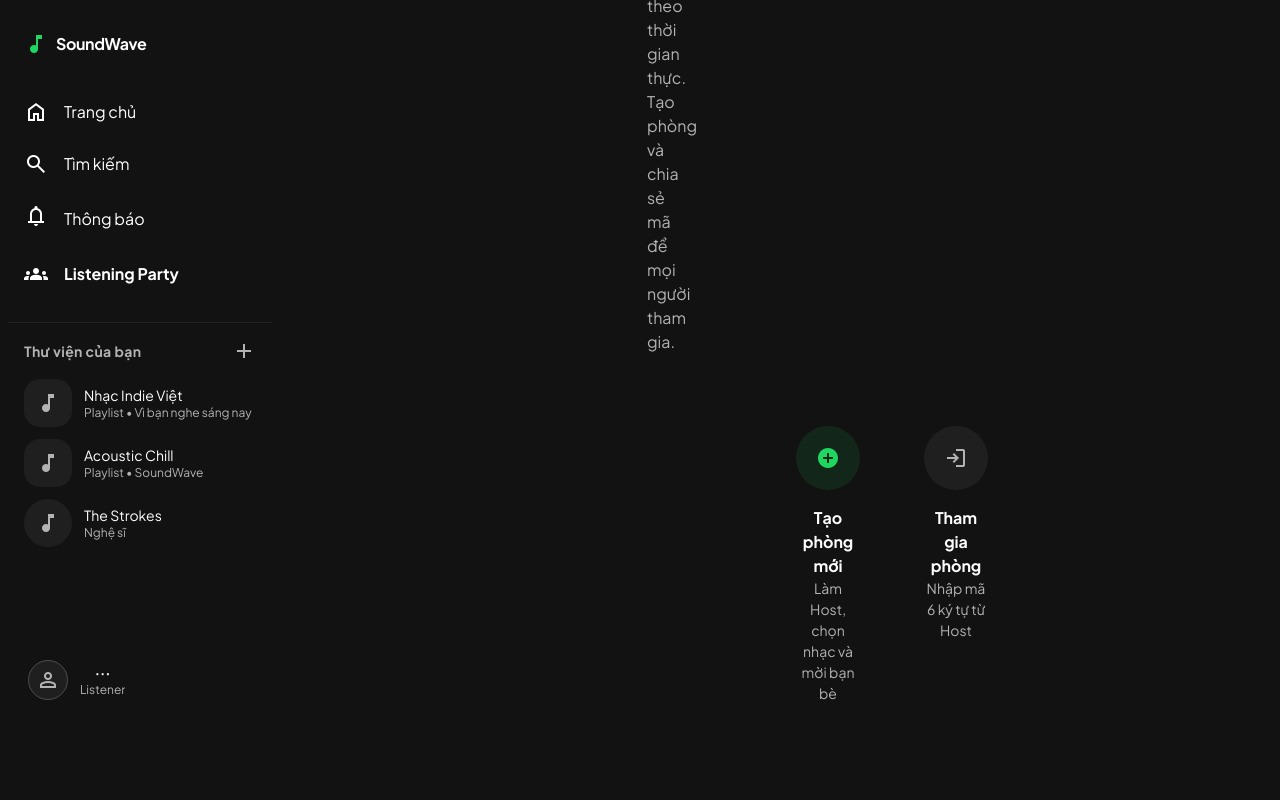
PartyLandingPage › closes CreateRoomModal when close button clicked
This screenshot has width=1280, height=800.
(page scrolled)
Click the button "Tạo phòng mới Làm Host, chọn nhạc và mời bạn bè".
click(828, 565)  # box [772, 402, 884, 728]
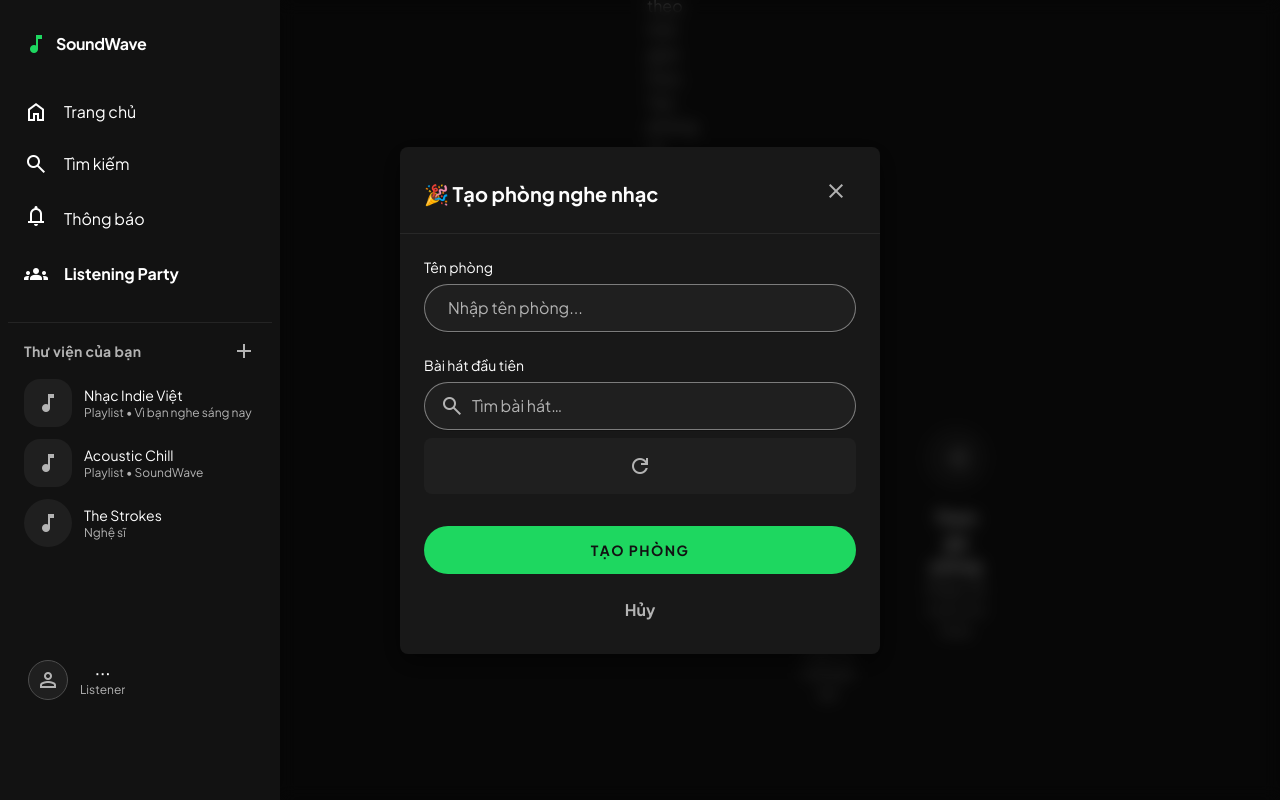
Click the button named "Đóng".
click(836, 194)  # box [816, 170, 856, 216]
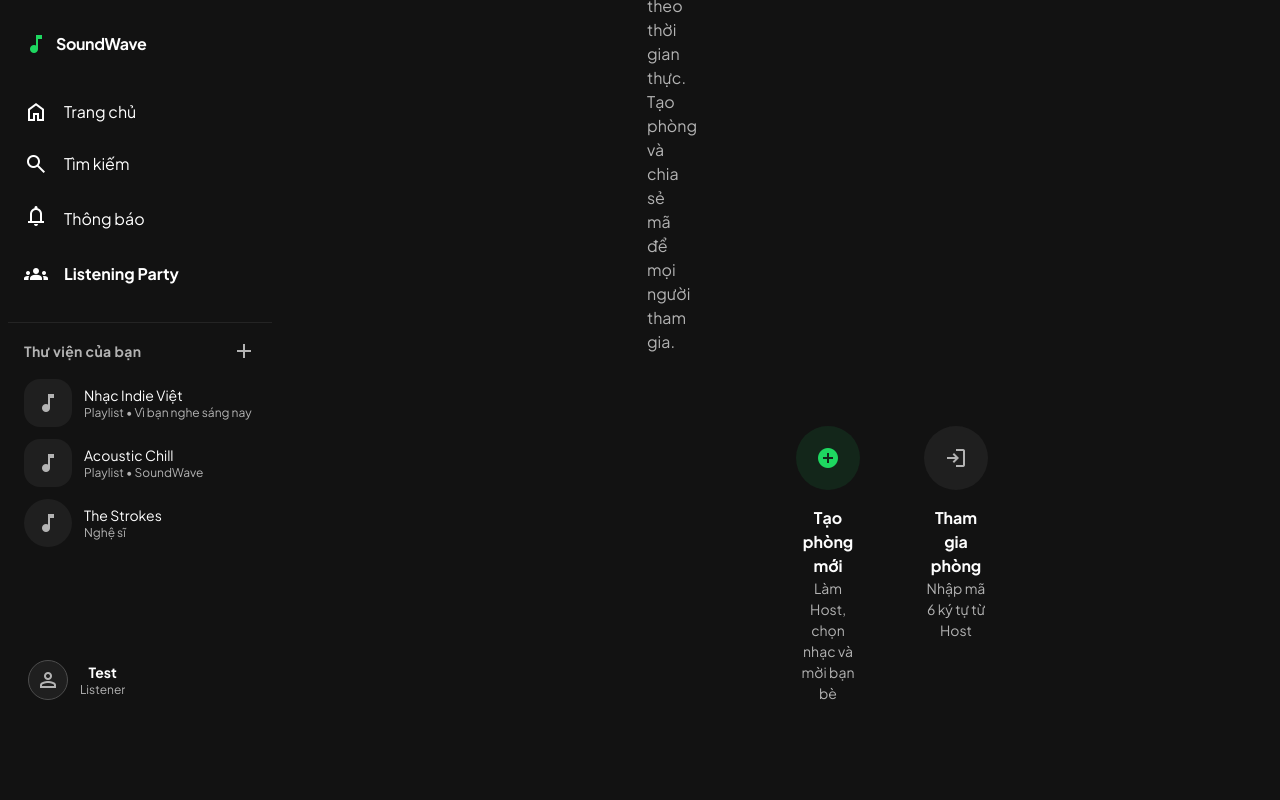
Check: the dialog is gone
